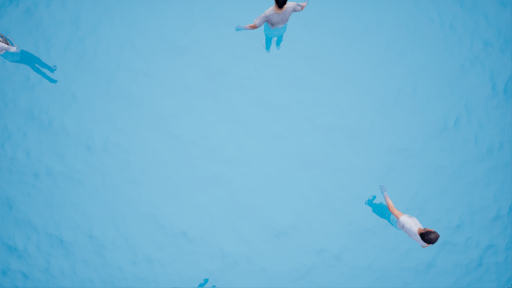person: (366, 187, 441, 248), (233, 3, 315, 53)
